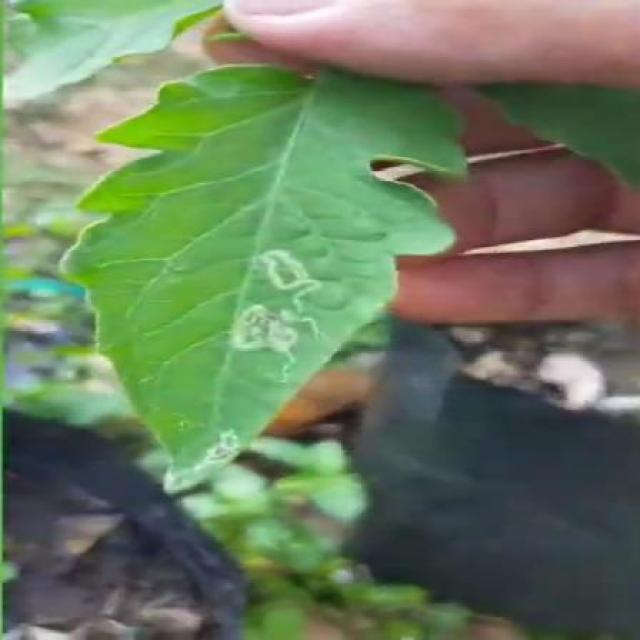Leaf Miner: (86, 59, 474, 494)
